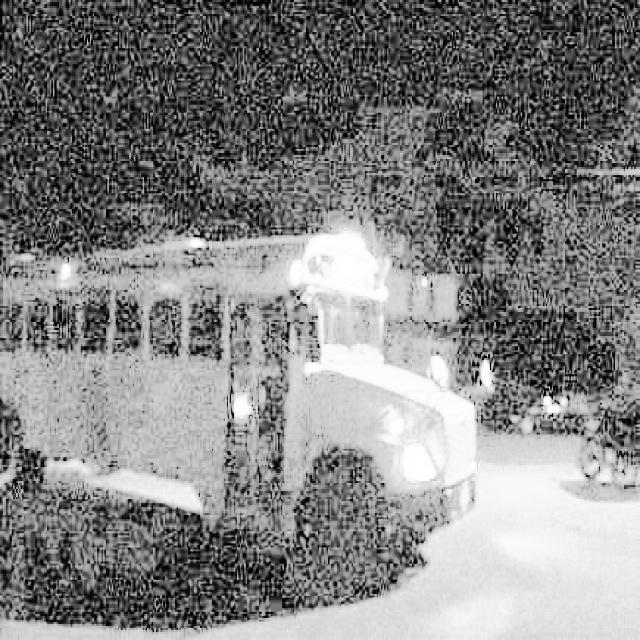Bicycle: (574, 395, 640, 495)
Bus: (1, 176, 483, 570)
Car: (508, 384, 610, 444)
